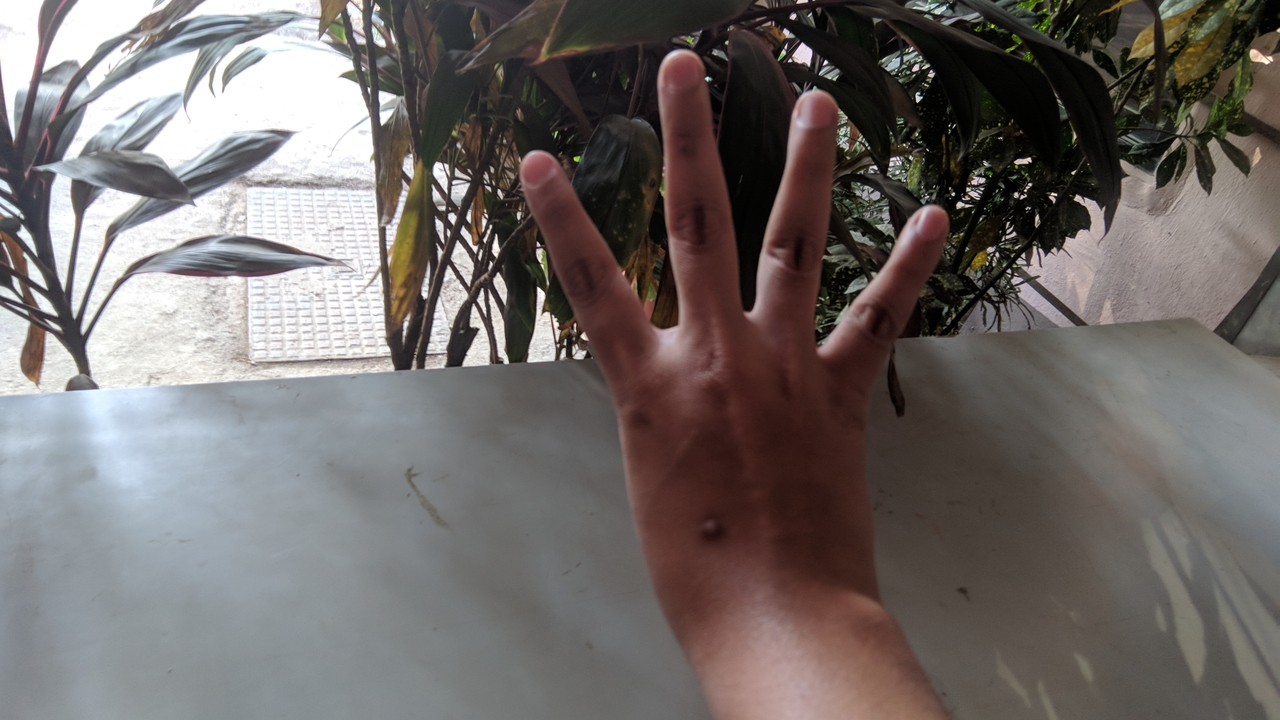fingertip: (654, 38, 708, 102), (508, 140, 566, 196), (788, 86, 844, 144), (898, 196, 956, 250)
